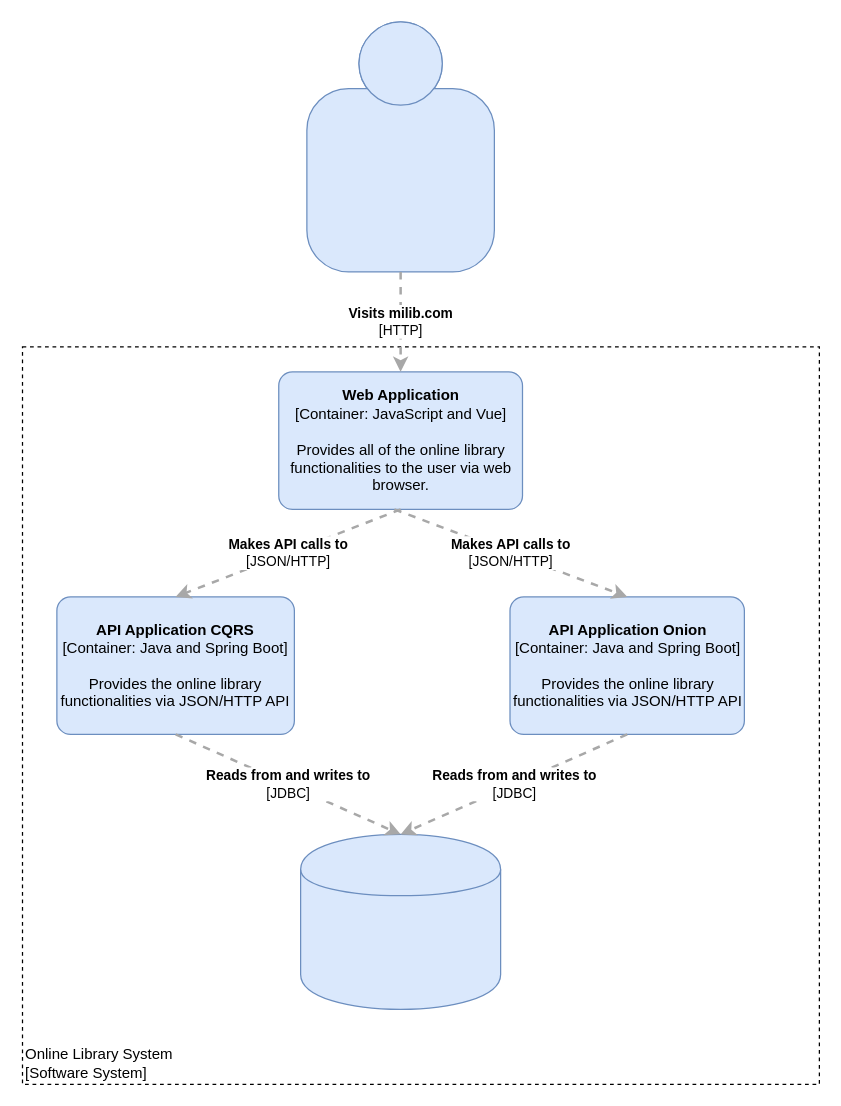
The diagram is 841 pixels wide and 1106 high, and some of its shapes have lost their labels. Here are the shapes that lost their labels. From the top down, the centre of each, then its label:
At (x=400, y=146): "User [Person] An user of the online library application".
At (x=400, y=921): "Database [Container: MySQL] Stores user data and books data.".
